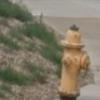a fire hydrant: (61, 25, 90, 100)
